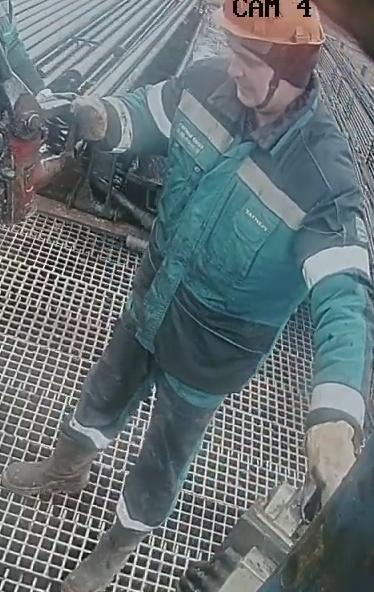gloves: (304, 382, 363, 516), (35, 87, 116, 140)
helmet: (210, 0, 332, 48)
vest: (137, 53, 360, 396)
